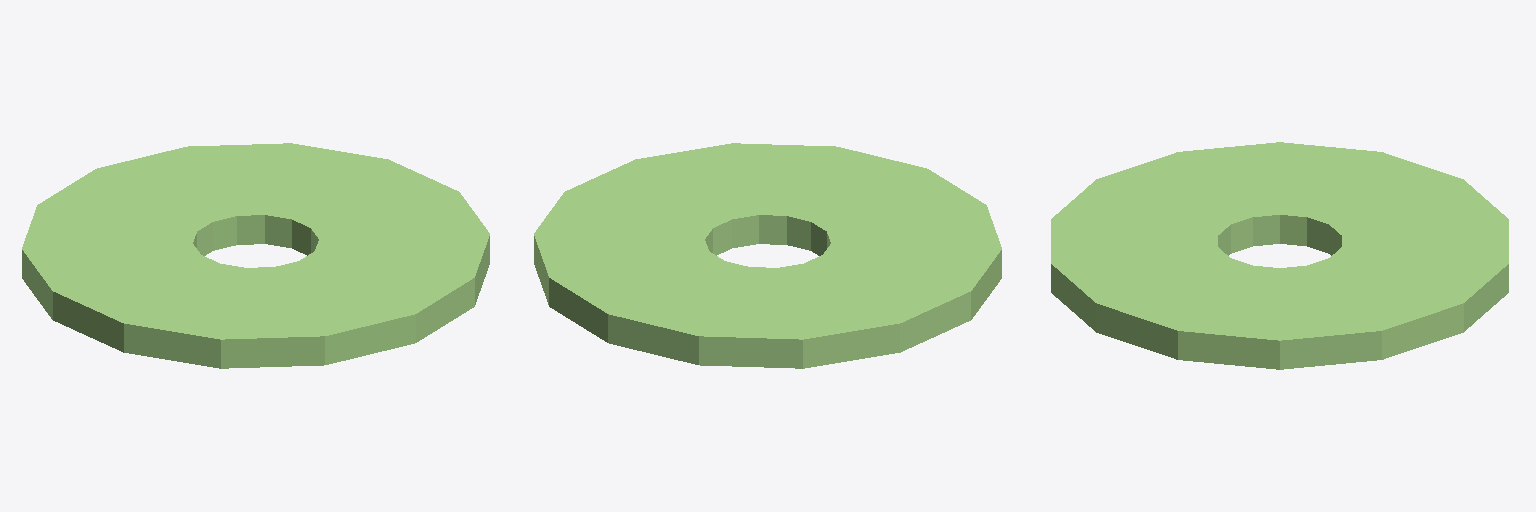
File: moneda.obj
The picture shows the model from 3 angles: view 1: azimuth 30°, elevation 25°; view 2: azimuth 150°, elevation 25°; view 3: azimuth 270°, elevation 25°; orthographic projection.
Visible parts, largest first — view 1: Cylinder003; view 2: Cylinder003; view 3: Cylinder003.
Part boxes in pixels (x1,y1,x2,y2): Cylinder003: (22,143,489,368); Cylinder003: (534,143,1001,368); Cylinder003: (1051,142,1508,369).
Bounding box in the file's own units: 3.69 × 0.2522 × 3.6.